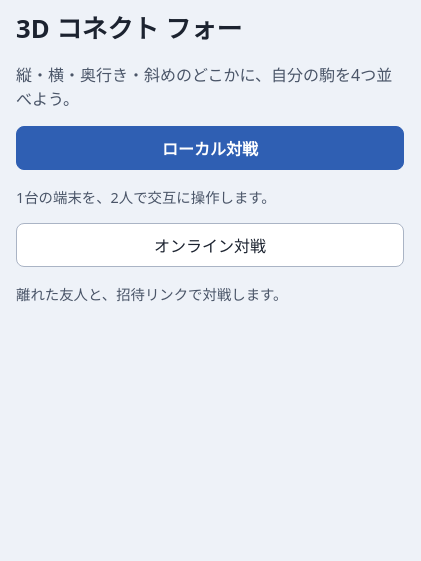
it: App › ローカルの設定画面から、メニューへ戻れる
The width and height of the screenshot is (421, 561).
Click the button "ローカル対戦".
click(210, 148)  # box [16,126,404,170]
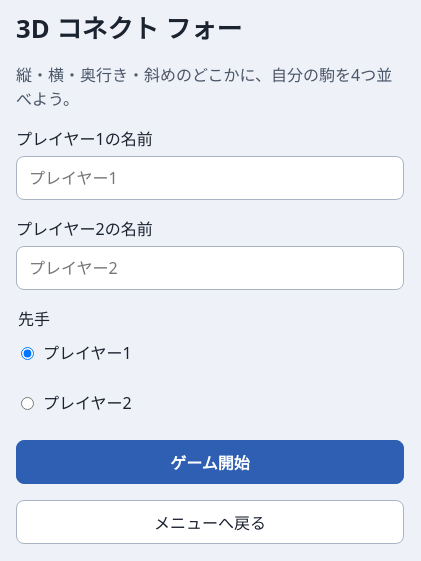
Click the button "メニューへ戻る".
click(210, 522)  # box [16,500,404,544]
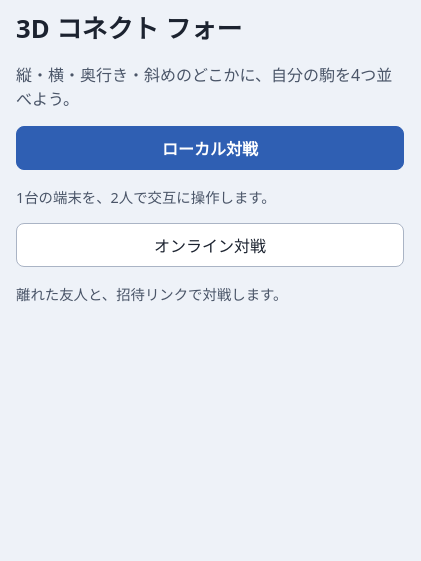
expect the button "ローカル対戦" is shown: met, box [16,126,404,170]
